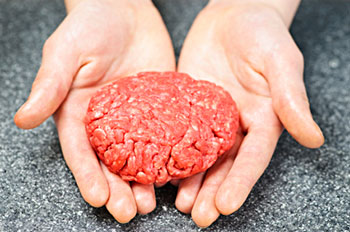ground_beef: (83, 66, 240, 186)
